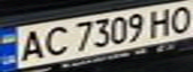0: (109, 12, 130, 46)
3: (90, 16, 115, 48)
7: (69, 19, 93, 53)
9: (124, 10, 151, 42)
A: (12, 27, 48, 62)
C: (36, 24, 72, 57)
H: (145, 6, 178, 38)
O: (163, 2, 193, 34)
